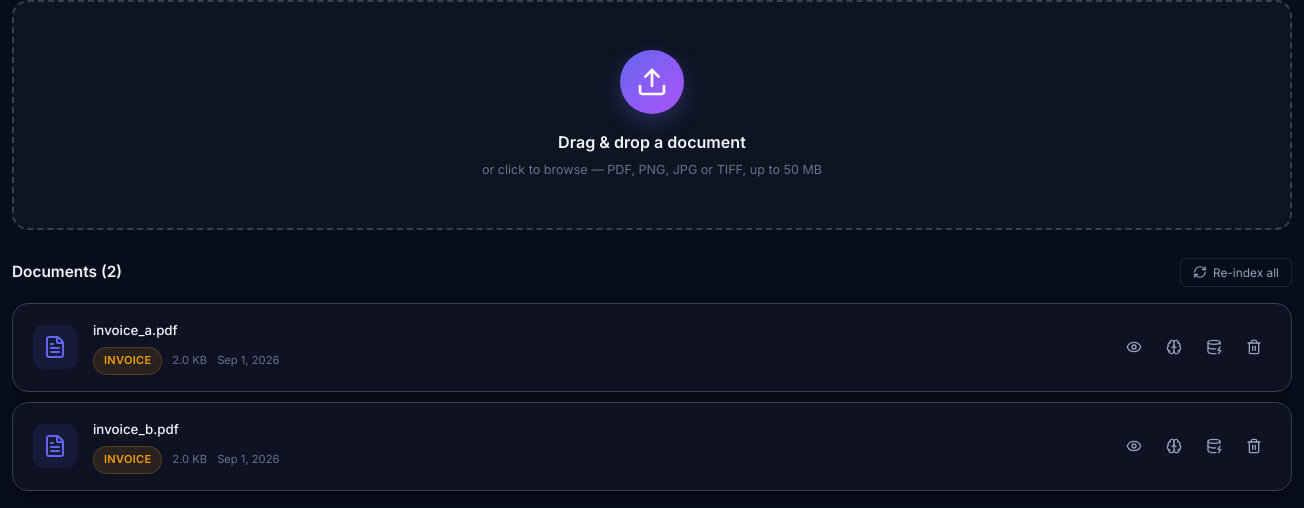
DocumentsPage › keeps a document removed once the delete succeeds
Click the button named "Delete invoice_a.pdf".
click(1254, 347)  # box [1237,330,1271,364]
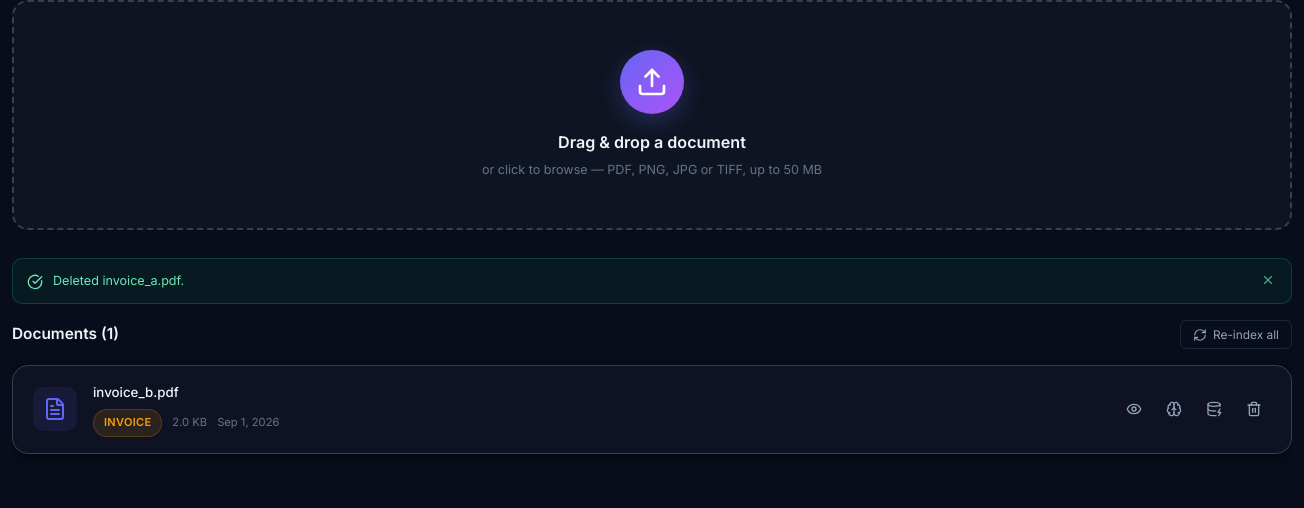
Expected: the text "Deleted invoice_a.pdf." is shown, [53,273,184,288]
